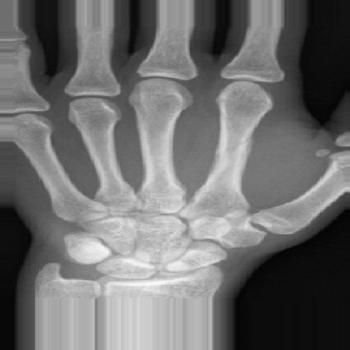Fracture: (216, 133, 261, 155)
